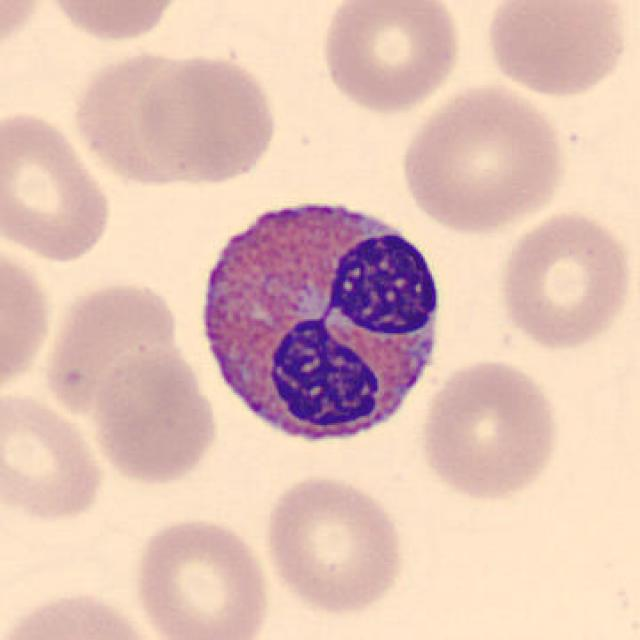Eosinophil: (188, 180, 457, 462)
RBC: (395, 80, 569, 236), (416, 354, 565, 504), (259, 471, 409, 617), (494, 206, 635, 353), (39, 275, 181, 420), (133, 51, 281, 187), (70, 44, 206, 190), (87, 346, 222, 486), (0, 104, 116, 266), (130, 513, 274, 640), (316, 0, 465, 116), (480, 0, 633, 100), (0, 387, 108, 525), (0, 236, 57, 402), (0, 585, 165, 639), (39, 0, 189, 46), (0, 0, 46, 63)
